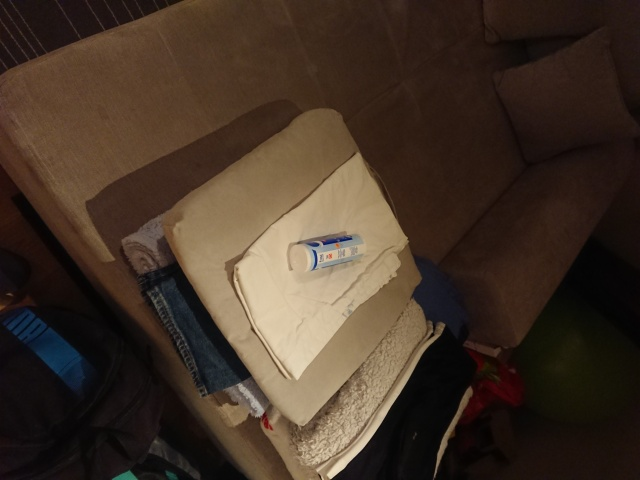Solana Pag Fine Sea Salt 250g: (286, 231, 370, 276)
